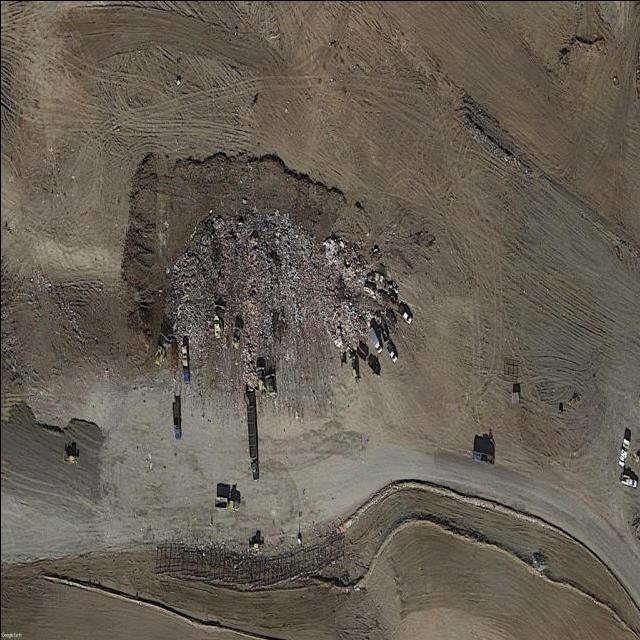dump_site: (158, 199, 386, 401)
